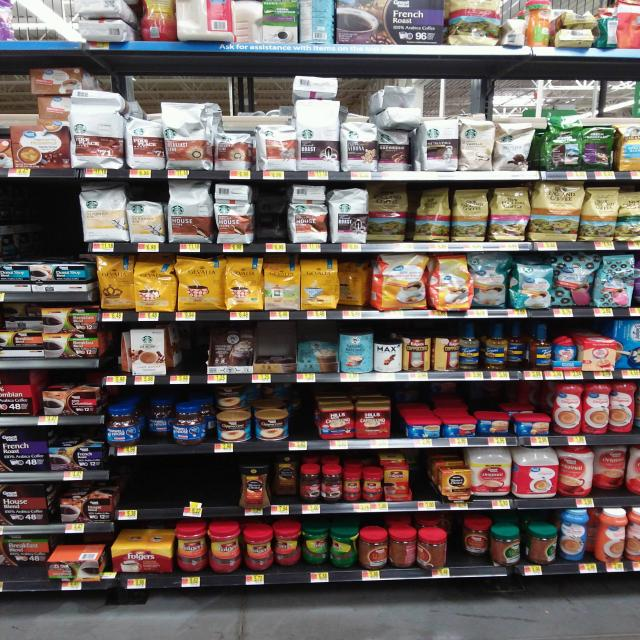empty: (118, 449, 250, 510), (286, 383, 323, 453), (409, 445, 452, 499)
